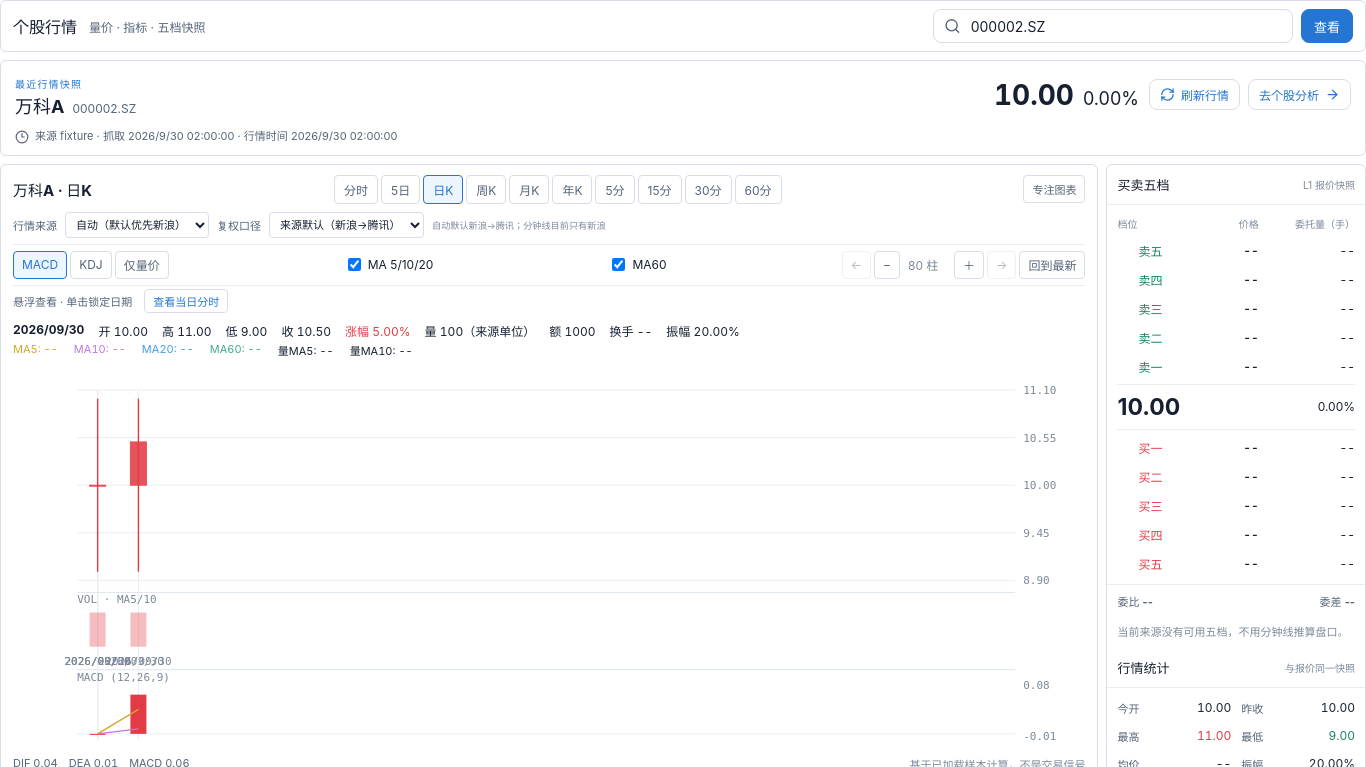
stock detail refresh preserves the rendered chart › isolates adjustment data and does not display the old convention after a failed switch
The width and height of the screenshot is (1366, 767).
Expected: the picture is shown, [13,362,1086,752]
Select "后复权 · 所选来源" in the dropdown named "复权口径": coordinates (346, 224) [269,212,424,238]
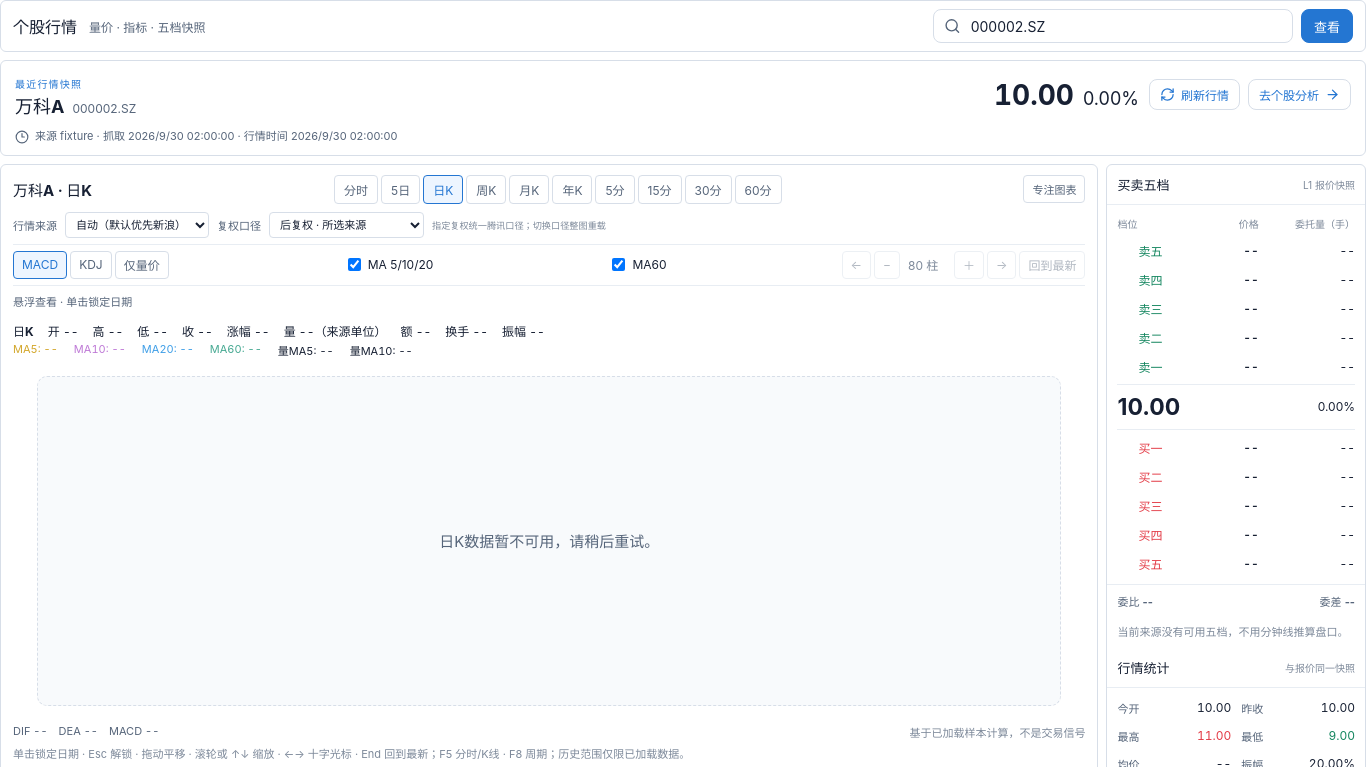
Result: the picture is gone
Select "来源默认（新浪→腾讯）" in the dropdown named "复权口径": coordinates (346, 224) [269,212,424,238]
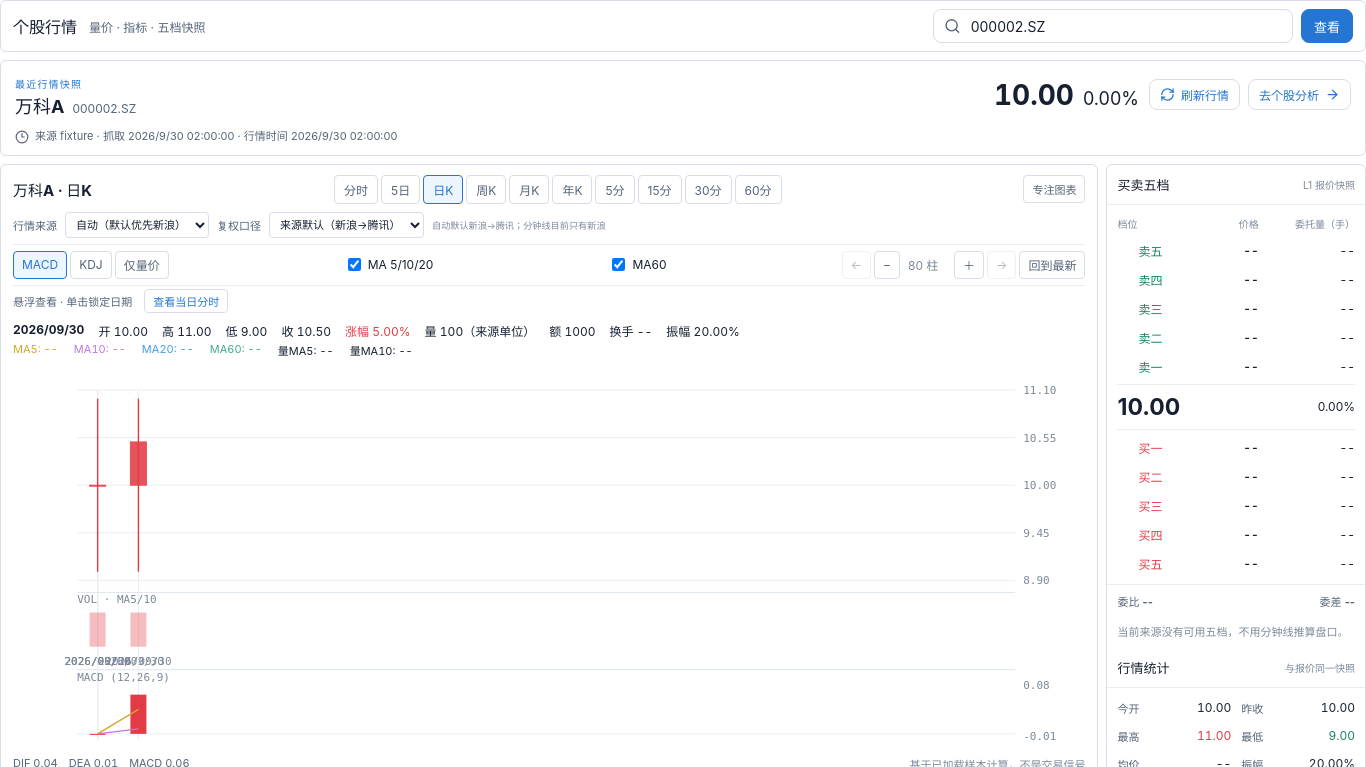
Result: the picture is shown at [13,362,1086,752]
